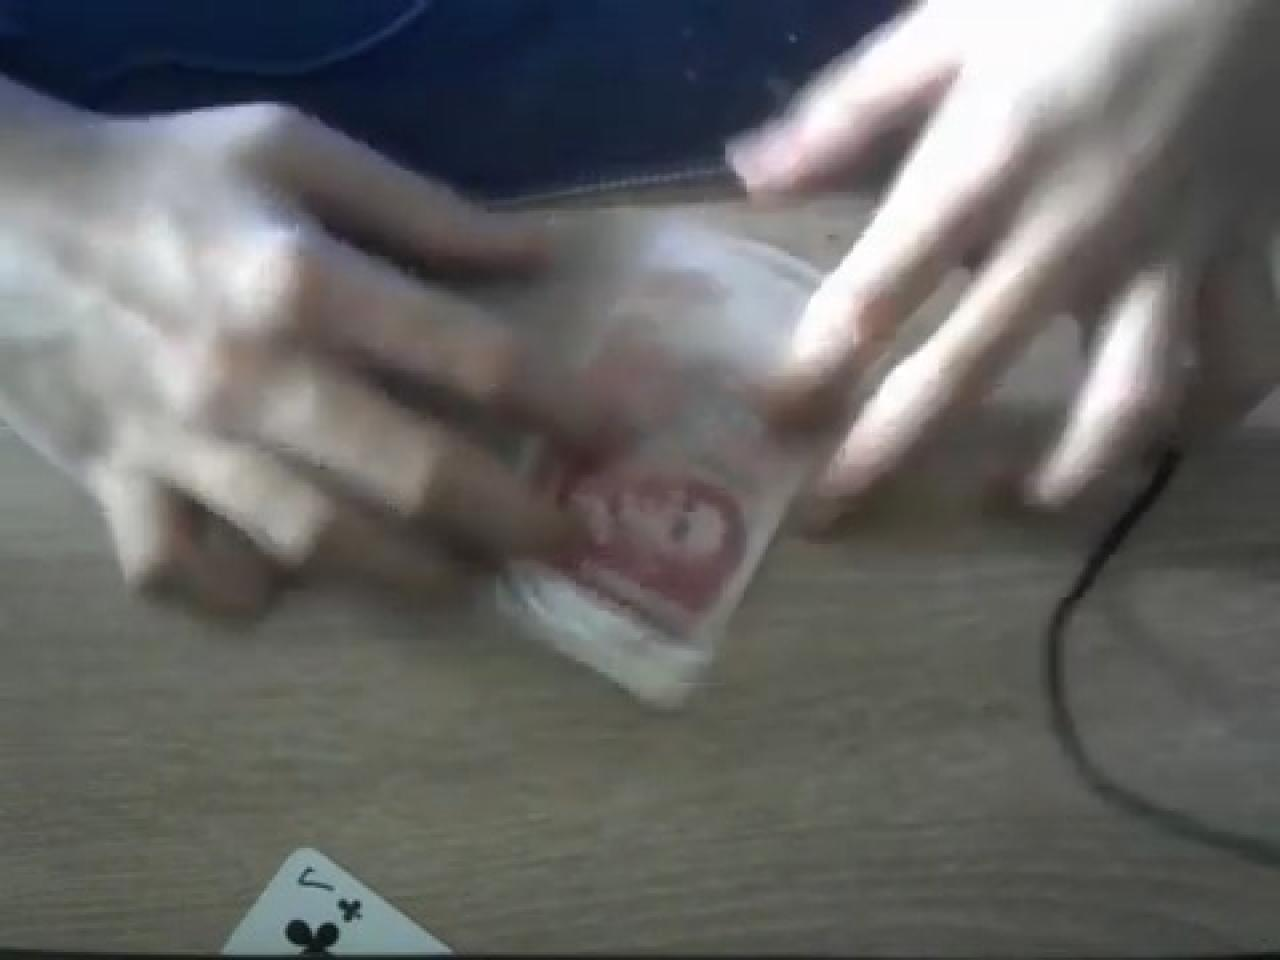5leva: (0, 107, 880, 709)
